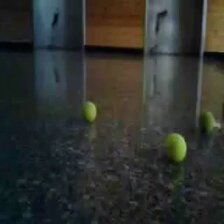tennis: (162, 133, 186, 161), (198, 111, 215, 134), (82, 102, 97, 123)
